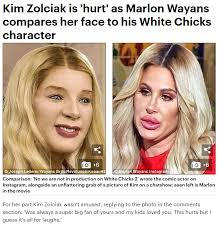white_female: (124, 47, 195, 153)
